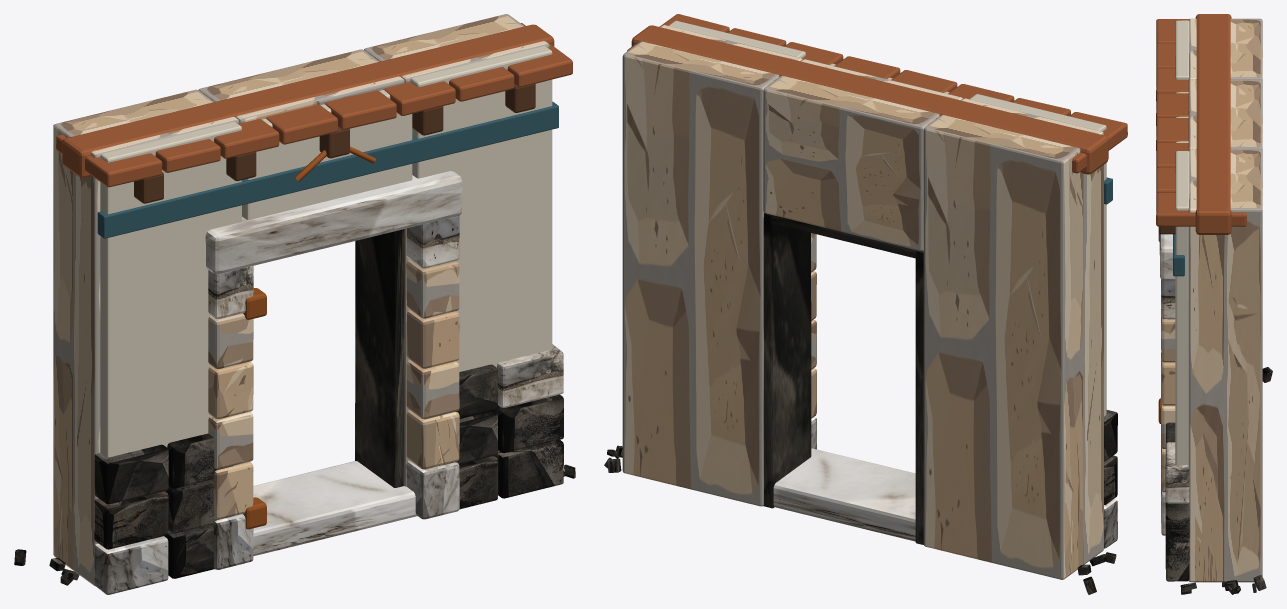
The model's file is greek_house_doorway_LOD0.glb.
3 renders of one model, left to right at view 1: azimuth 30°, elevation 25°; view 2: azimuth 150°, elevation 25°; view 3: azimuth 270°, elevation 25°, orthographic. The views are drawn at different scales.
Visible parts, largest first — view 1: DoorwayPlasterSide, DoorwayPlasterSide.001, DoorwayHeartLeft, DoorwayInnerReveal.001, DoorwayMarbleLintel, DoorwayBlueBand, DoorwayTerracottaCornice, DoorwayThreshold, DoorwayPlasterLintel, DoorwayHeartLintel, DoorwayHeartRight, DoorwayPlinthAshlar.008 (+35 smaller); view 2: DoorwayHeartLeft, DoorwayHeartRight, DoorwayHeartLintel, DoorwayInnerReveal.001, DoorwayTerracottaCornice, DoorwayThreshold, DoorwayInnerReveal, DoorwayPlasterSide, DoorwayInnerSoffit, DoorwayPlasterSide.001, DoorwayCanopyTile, DoorwayCanopyTile.003 (+1 smaller); view 3: DoorwayHeartRight, DoorwayTerracottaCornice, DoorwayPlasterSide.001, DoorwayHeartLintel, DoorwayHeartLeft, DoorwayCanopyTile.007, DoorwayPlinthAshlar.011, DoorwayPlinthAshlar.007, DoorwayPlinthAshlar.003, DoorwayPlasterSide, DoorwayCanopyTile.003, DoorwayCanopyTile.004 (+14 smaller).
Boxes of the visible parts, x1,y1,x2,y2 form: DoorwayPlasterSide: (100,122,241,457); DoorwayPlasterSide.001: (410,46,552,371); DoorwayHeartLeft: (53,89,239,586); DoorwayInnerReveal.001: (355,229,404,487); DoorwayMarbleLintel: (205,171,462,274); DoorwayBlueBand: (97,101,558,238); DoorwayTerracottaCornice: (62,24,554,178); DoorwayThreshold: (253,461,417,556); DoorwayPlasterLintel: (242,90,412,219); DoorwayHeartLintel: (198,49,404,122); DoorwayHeartRight: (364,14,549,486); DoorwayPlinthAshlar.008: (94,444,168,504); DoorwayHeartLeft: (923,98,1103,579); DoorwayHeartRight: (622,25,802,506); DoorwayHeartLintel: (763,59,962,251); DoorwayInnerReveal.001: (763,213,811,508); DoorwayTerracottaCornice: (631,25,1108,174); DoorwayThreshold: (773,448,915,541); DoorwayInnerReveal: (915,251,923,544); DoorwayPlasterSide: (970,94,1106,416); DoorwayInnerSoffit: (765,213,923,258); DoorwayPlasterSide.001: (669,20,805,58); DoorwayCanopyTile: (1069,112,1127,173); DoorwayCanopyTile.003: (891,70,957,92); DoorwayHeartRight: (1188,149,1262,582); DoorwayTerracottaCornice: (1195,14,1231,234); DoorwayPlasterSide.001: (1175,151,1189,465); DoorwayHeartLintel: (1188,79,1262,150); DoorwayHeartLeft: (1188,18,1262,80); DoorwayCanopyTile.007: (1156,192,1246,226); DoorwayPlinthAshlar.011: (1165,442,1189,503); DoorwayPlinthAshlar.007: (1165,484,1189,542); DoorwayPlinthAshlar.003: (1165,539,1189,581); DoorwayPlasterSide: (1175,20,1189,79); DoorwayCanopyTile.003: (1156,93,1188,125); DoorwayCanopyTile.004: (1156,118,1188,150).
Size of the model in its own units: 4.35 by 3.5 by 0.9781.
Materials: 8 (3 with a texture image).
